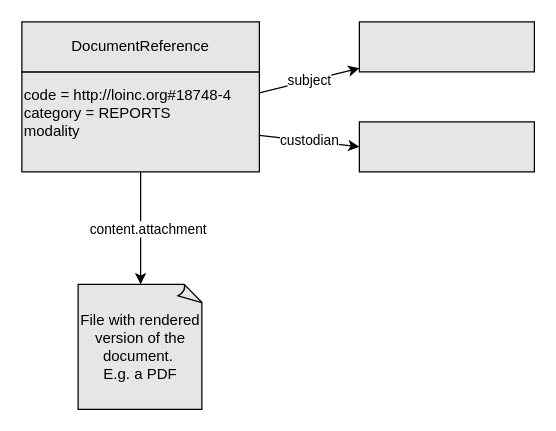
This 556x431 diagram has some shape labels left out. The shapes that lost their labels are listed below. From the top down, each one's centre as x and y in pixels, then its label:
[446,46]: Patient
[446,146]: Organization
